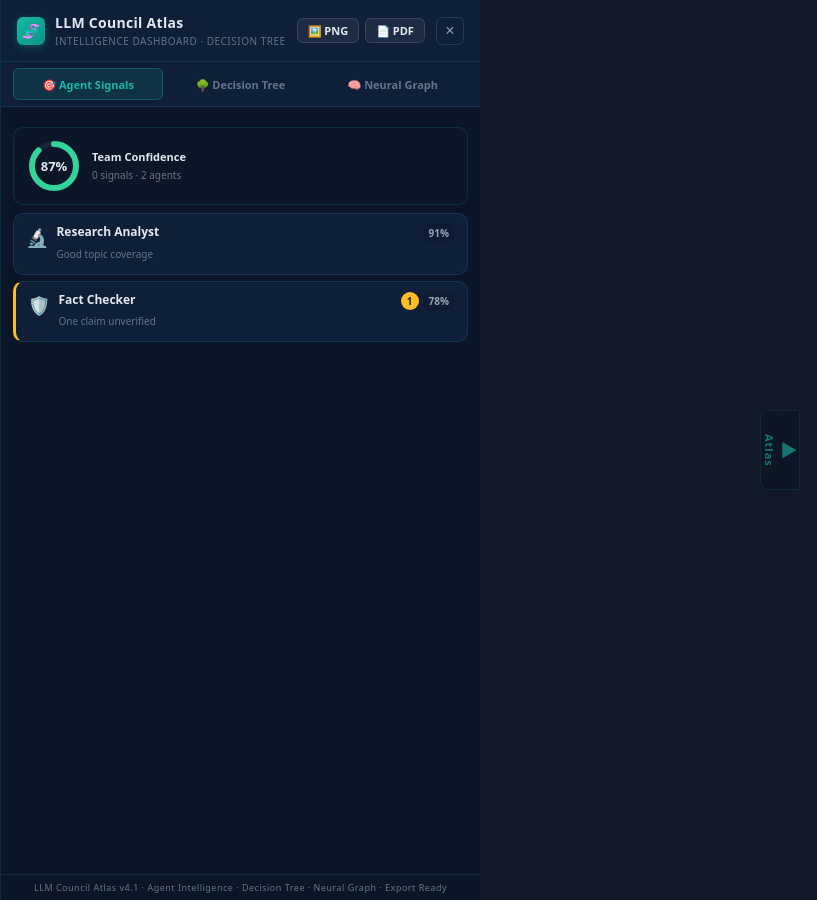
Test case: Prompt Atlas — Agent Team Dashboard › expanding an agent card reveals signal list
Click the button "🔬 Research Analyst Good topic coverage 91%": (108,232) [13, 213, 468, 275]
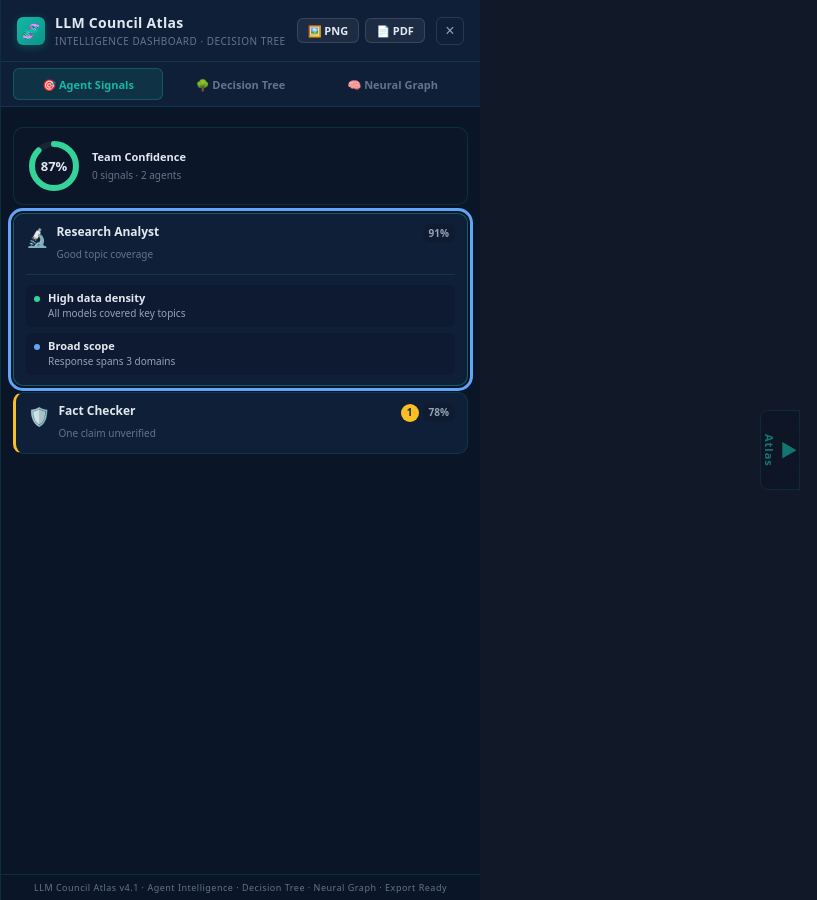
Now the button "Research Analyst" is expanded, box [13, 213, 468, 386]
Now the list named "research analyst signals" is shown, box [26, 274, 455, 375]
